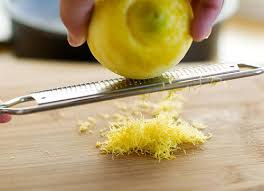lemon: (84, 1, 217, 89)
